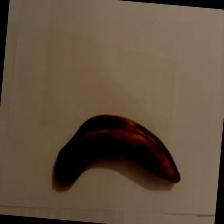Banana Rotten: (42, 102, 194, 208)
